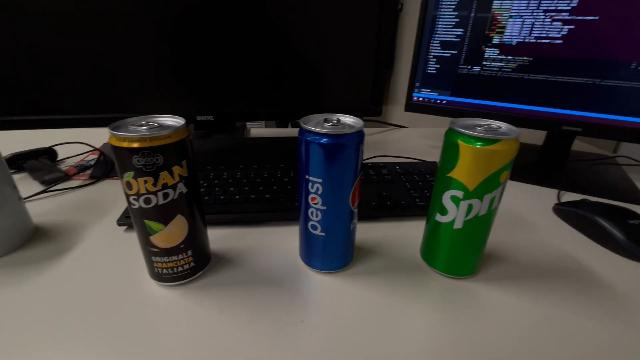OranSoda: (107, 112, 213, 288)
Pepsi: (296, 110, 368, 276)
Sprite: (419, 113, 519, 282)
